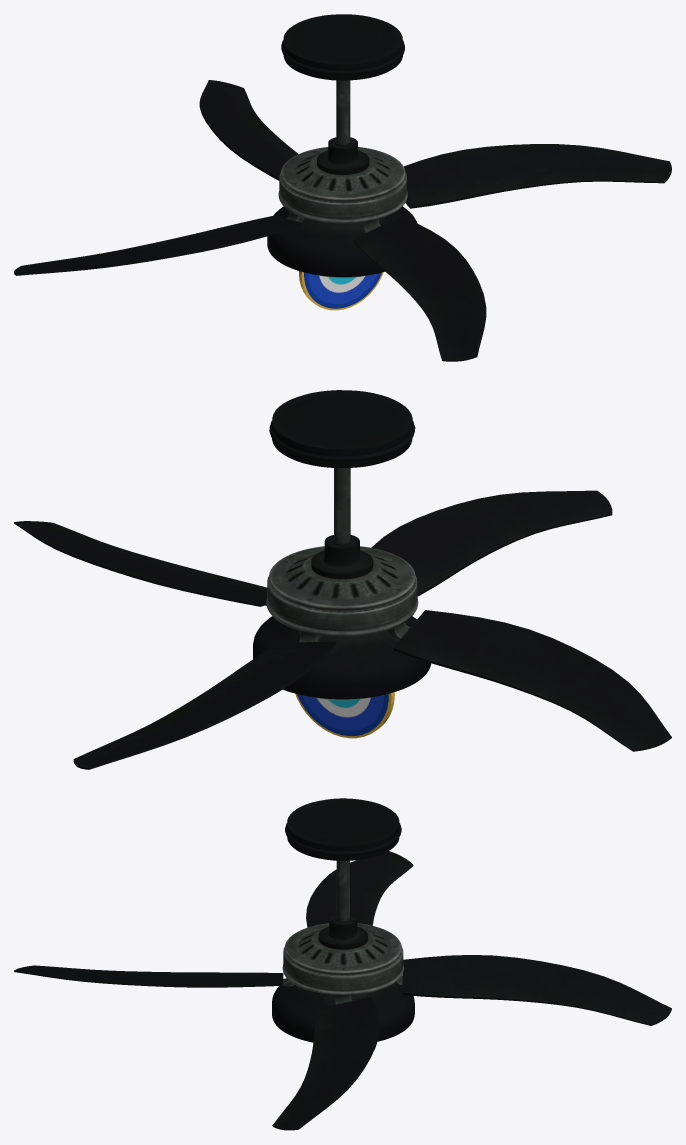
The model's file is nyb_angrymen_fan.glb.
The picture shows the model from 3 angles, top to bottom: view 1: azimuth 30°, elevation 25°; view 2: azimuth 150°, elevation 25°; view 3: azimuth 270°, elevation 25°; orthographic projection. The views are drawn at different scales.
Parts seen in each view (by area): view 1: ceiling_fan, add_nazar.png; view 2: ceiling_fan, add_nazar.png; view 3: ceiling_fan.
Part boxes in pixels (x1,y1,x2,y2): ceiling_fan: [14, 14, 671, 361]; add_nazar.png: [304, 272, 381, 308]; ceiling_fan: [14, 390, 671, 769]; add_nazar.png: [297, 694, 388, 735]; ceiling_fan: [14, 798, 671, 1130].
Bounding box in the file's own units: 1.46 × 0.6193 × 1.46.
Materials: 3 (2 with a texture image).
